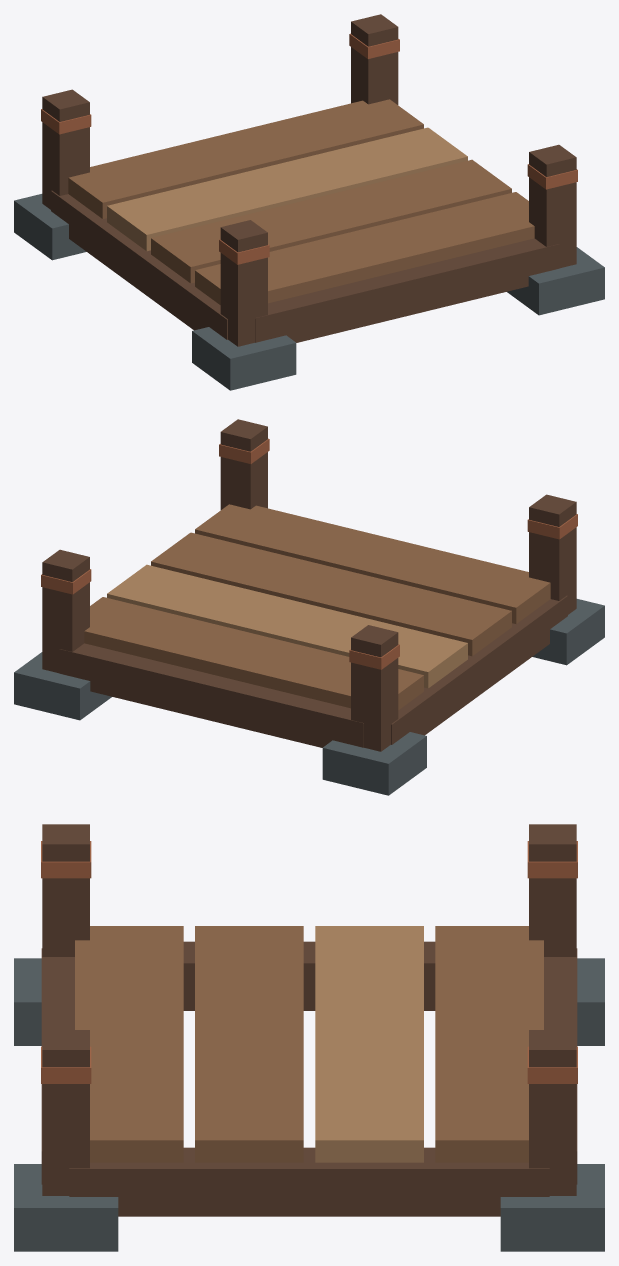
File: Survact-cimientos-1x1-v01.glb
3 views of the same model, one above another, from view 1: azimuth 30°, elevation 25°; view 2: azimuth 150°, elevation 25°; view 3: azimuth 270°, elevation 25° (orthographic). The views are drawn at different scales.
Parts seen in each view (by area): view 1: Foundation; view 2: Foundation; view 3: Foundation.
Part boxes in pixels (left/top/right/bottom): Foundation: left=14, top=14, right=604, bottom=390; Foundation: left=14, top=419, right=604, bottom=795; Foundation: left=14, top=824, right=604, bottom=1251.
Bounding box in the file's own units: 0.935 × 0.331 × 0.935.
